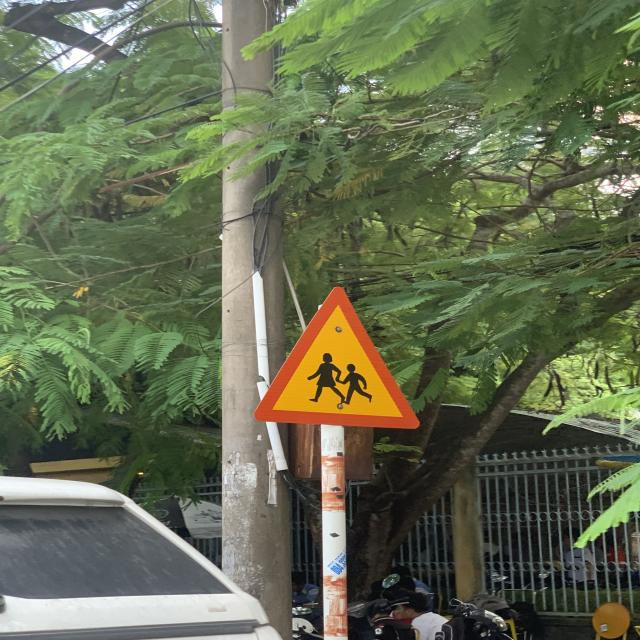Vong_Xuyen: (252, 284, 423, 428)
